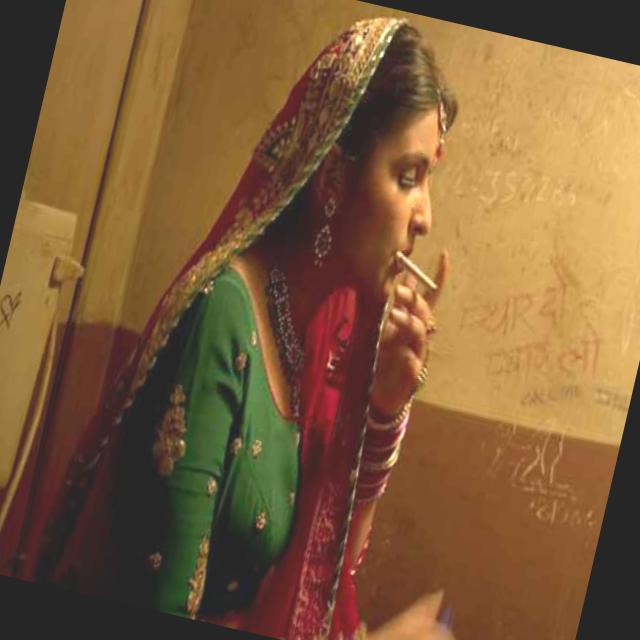cigarette: (382, 237, 458, 308)
